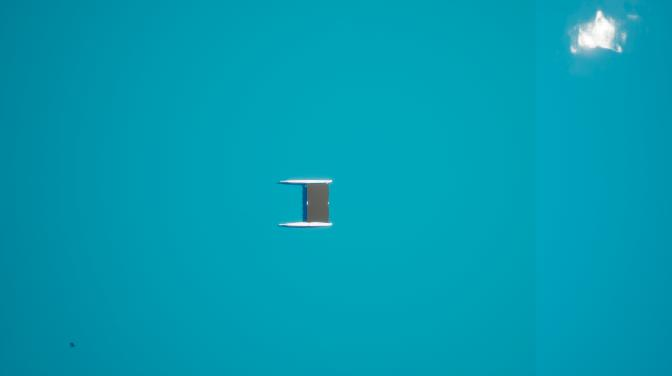boat: (277, 178, 334, 231)
drone: (69, 341, 77, 351)
land_base: (308, 184, 328, 222)
light_reflex: (557, 1, 644, 64)
